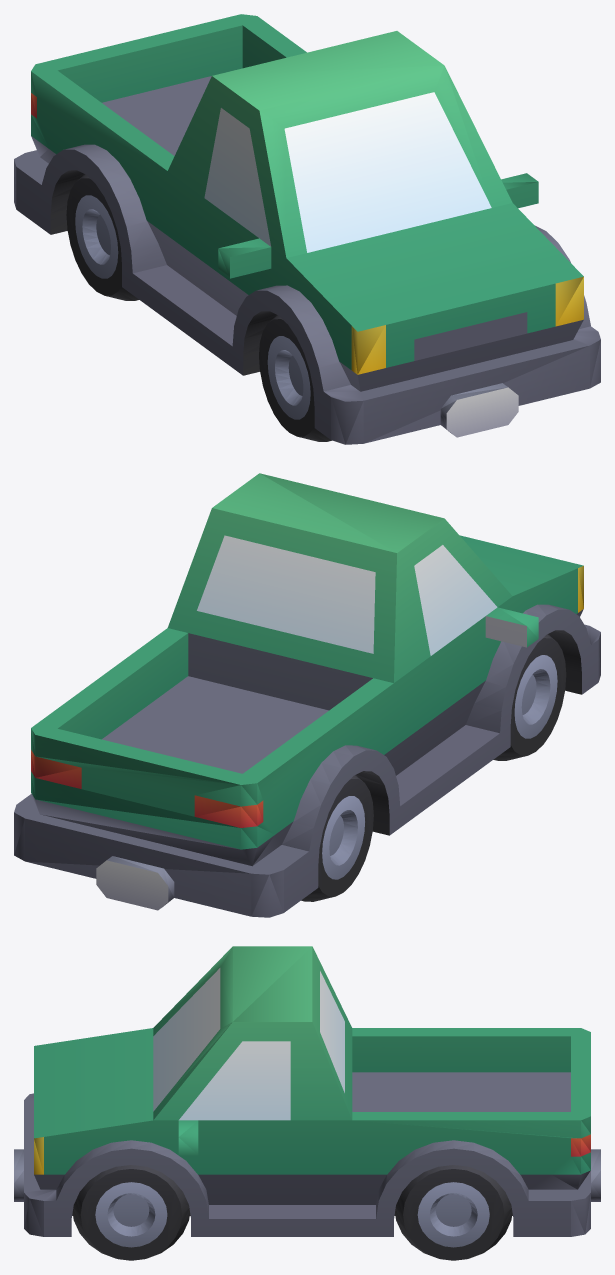
File: style-truck.glb
3 views of the same model, one above another, from view 1: azimuth 30°, elevation 25°; view 2: azimuth 150°, elevation 25°; view 3: azimuth 270°, elevation 25° (orthographic). The views are drawn at different scales.
Visible parts, largest first — view 1: body, wheel-front-right, wheel-back-right; view 2: body, wheel-front-right, wheel-back-right; view 3: body, wheel-back-left, wheel-front-left.
Part boxes in pixels (bbox=[...]): body: bbox=[14, 14, 600, 444]; wheel-front-right: bbox=[259, 315, 331, 441]; wheel-back-right: bbox=[66, 174, 138, 300]; body: bbox=[14, 473, 600, 917]; wheel-front-right: bbox=[493, 634, 566, 760]; wheel-back-right: bbox=[301, 775, 373, 901]; body: bbox=[14, 946, 600, 1236]; wheel-back-left: bbox=[395, 1165, 512, 1260]; wheel-front-left: bbox=[72, 1165, 189, 1260].
Size of the model in its own units: 1.55 by 1.34 by 3.05.
2 materials, 2 textured.
